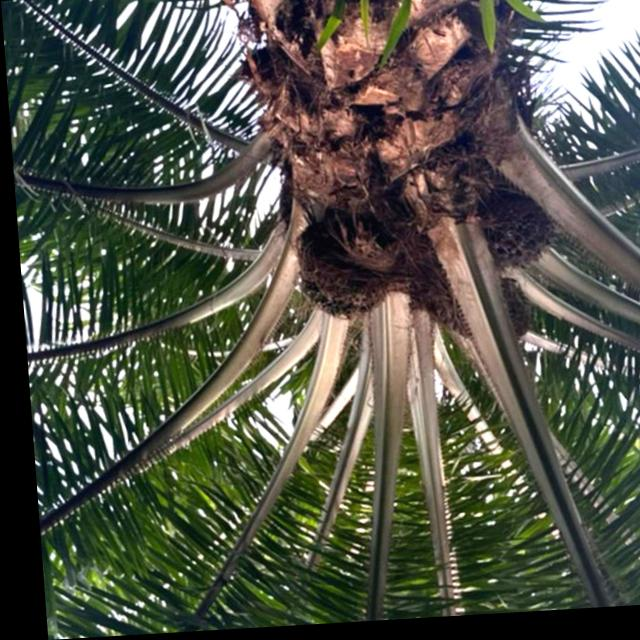unripe: (283, 228, 388, 330), (474, 190, 553, 284)
